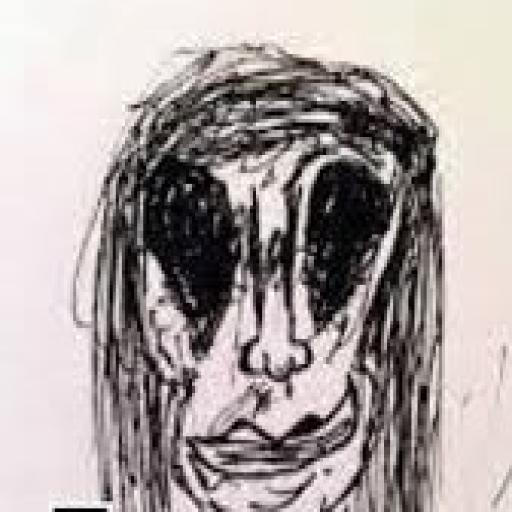person: (71, 47, 463, 512)
